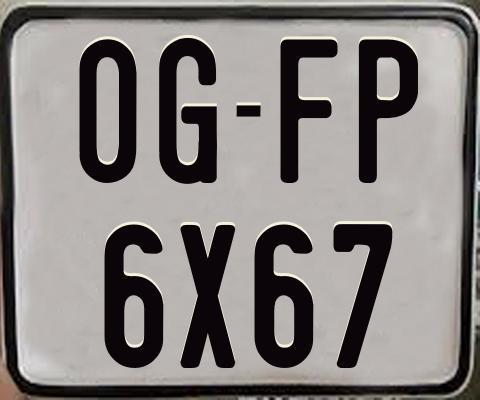0: (79, 37, 140, 183)
6: (254, 221, 316, 370), (101, 223, 160, 367)
7: (332, 223, 395, 370)
F: (277, 39, 339, 183)
G: (158, 37, 219, 183)
P: (357, 36, 418, 183)
X: (179, 225, 236, 369)
